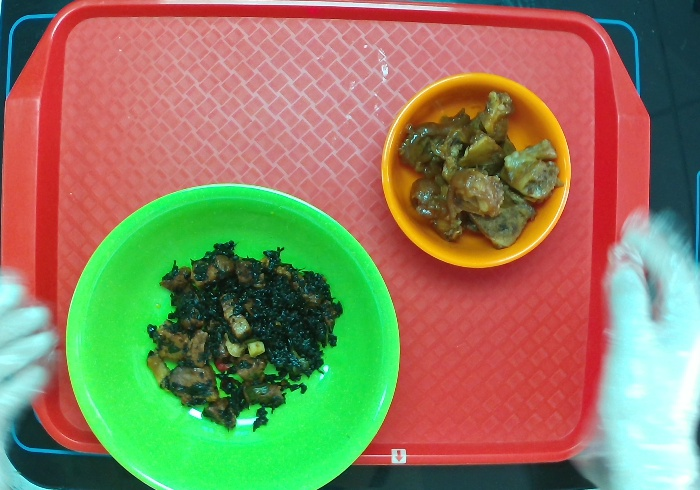YKMZ-Ju_Se_Yuan_Wan: (380, 72, 571, 268)
YKMZ-Lv_Se_Tang_Wan: (66, 182, 403, 489)
